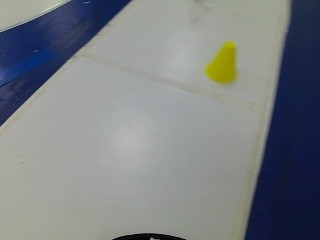cone: (201, 39, 248, 87)
